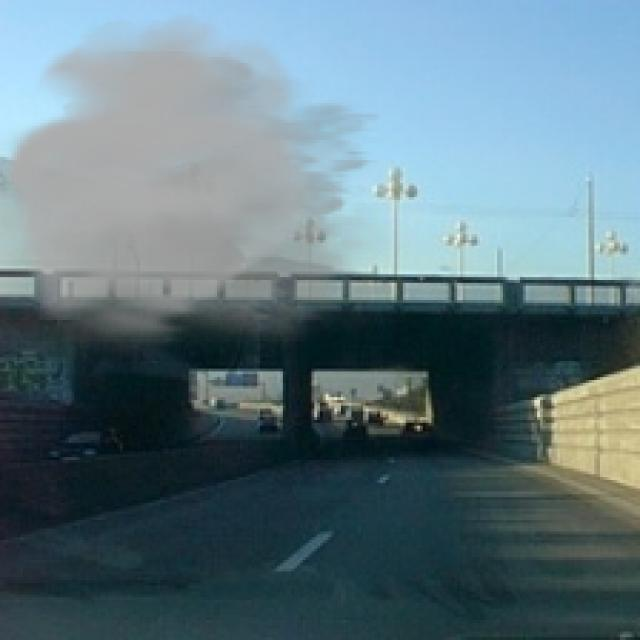Smoke: (0, 14, 420, 366)
